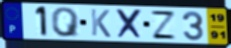1: (34, 5, 49, 38)
3: (181, 10, 205, 42)
K: (89, 8, 112, 39)
Q: (50, 6, 82, 38)
X: (115, 8, 145, 40)
Z: (150, 9, 179, 41)
